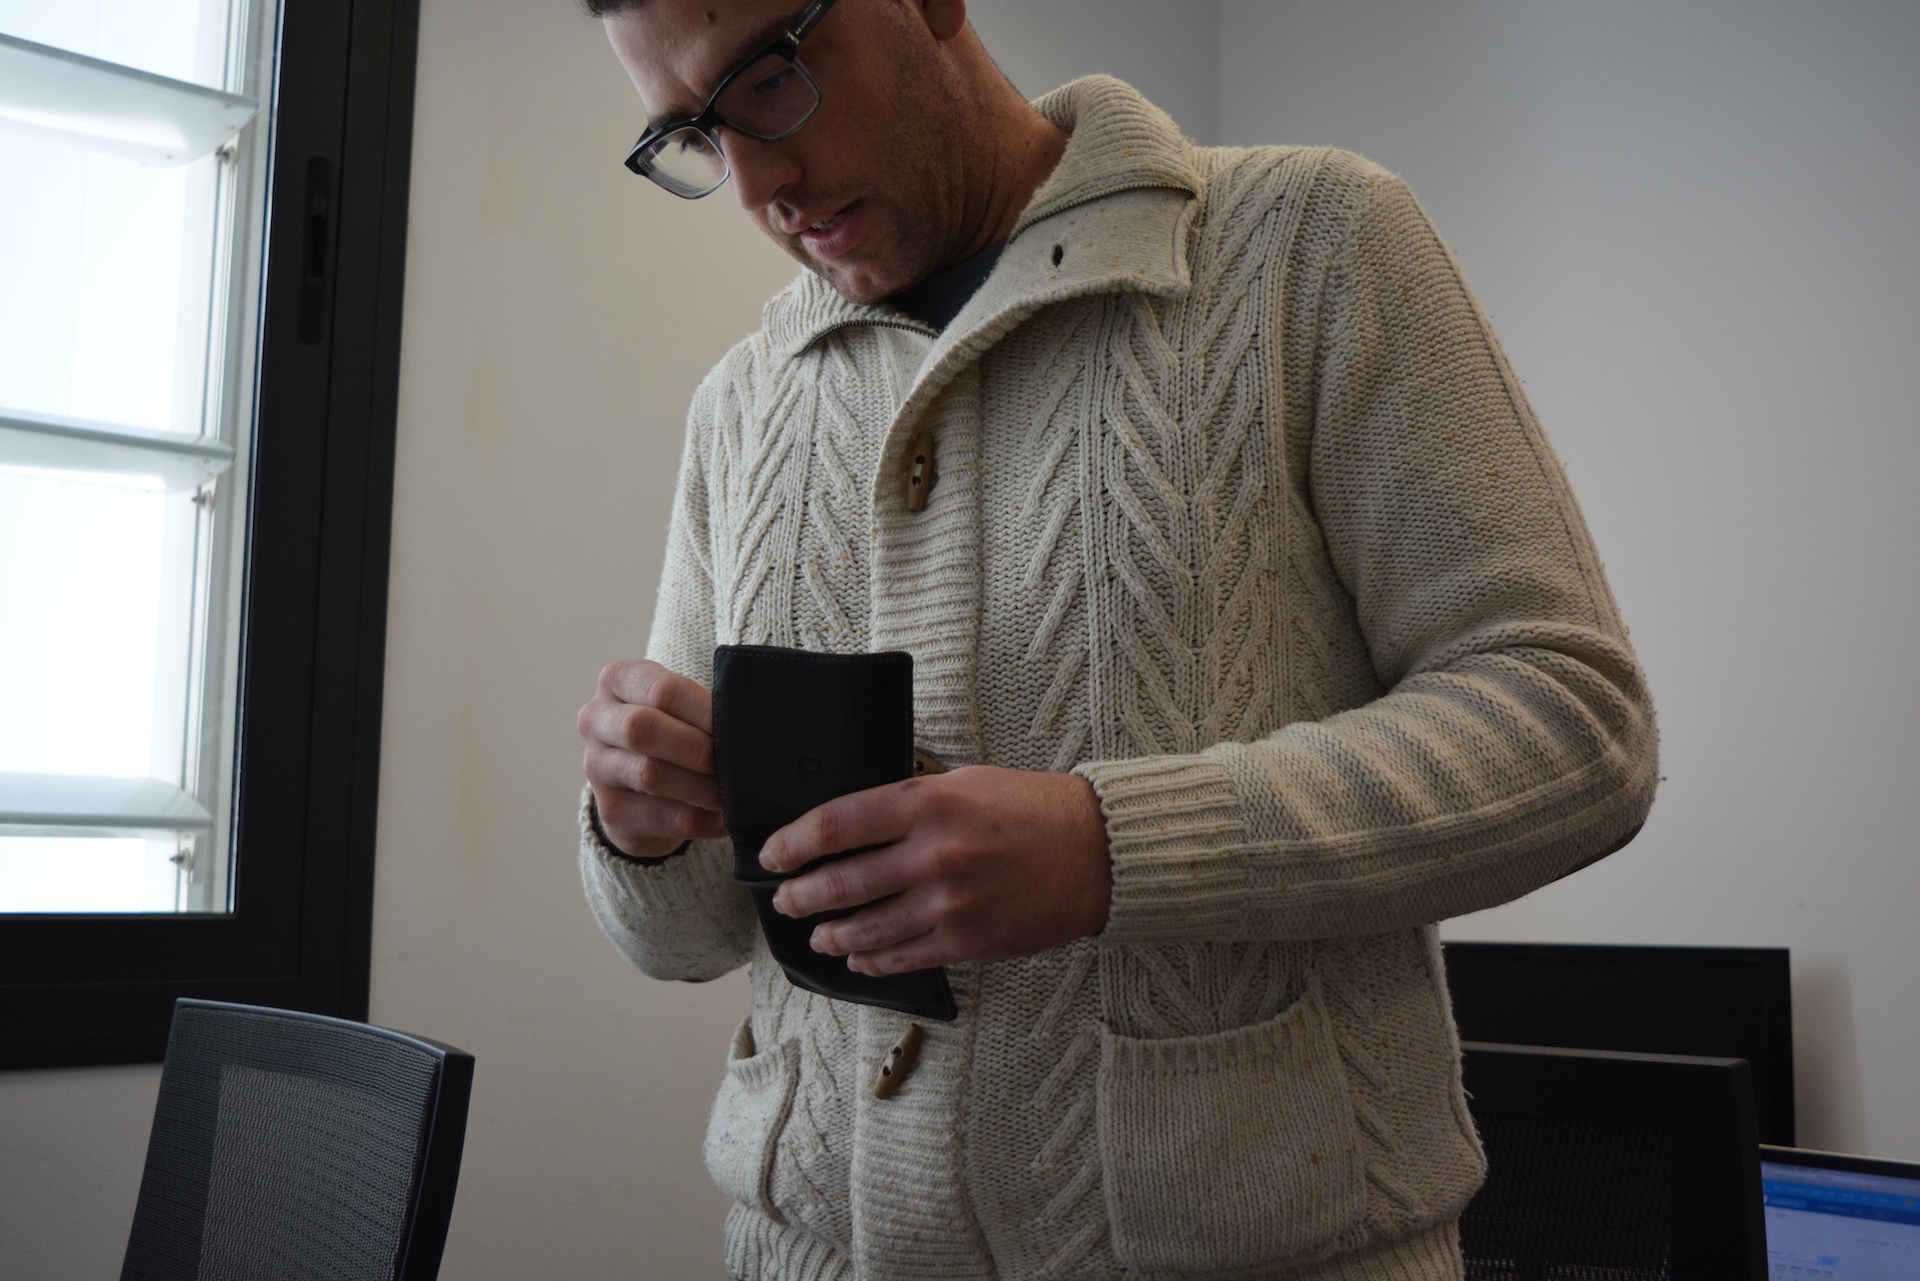monedero: (711, 642, 962, 1022)
